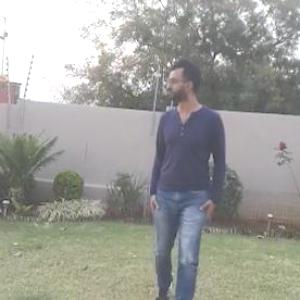follow: (137, 48, 231, 299)
